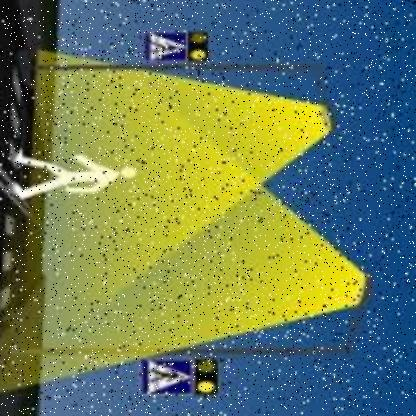Pedestrian Crossing: (142, 359, 195, 398), (146, 32, 191, 63)
